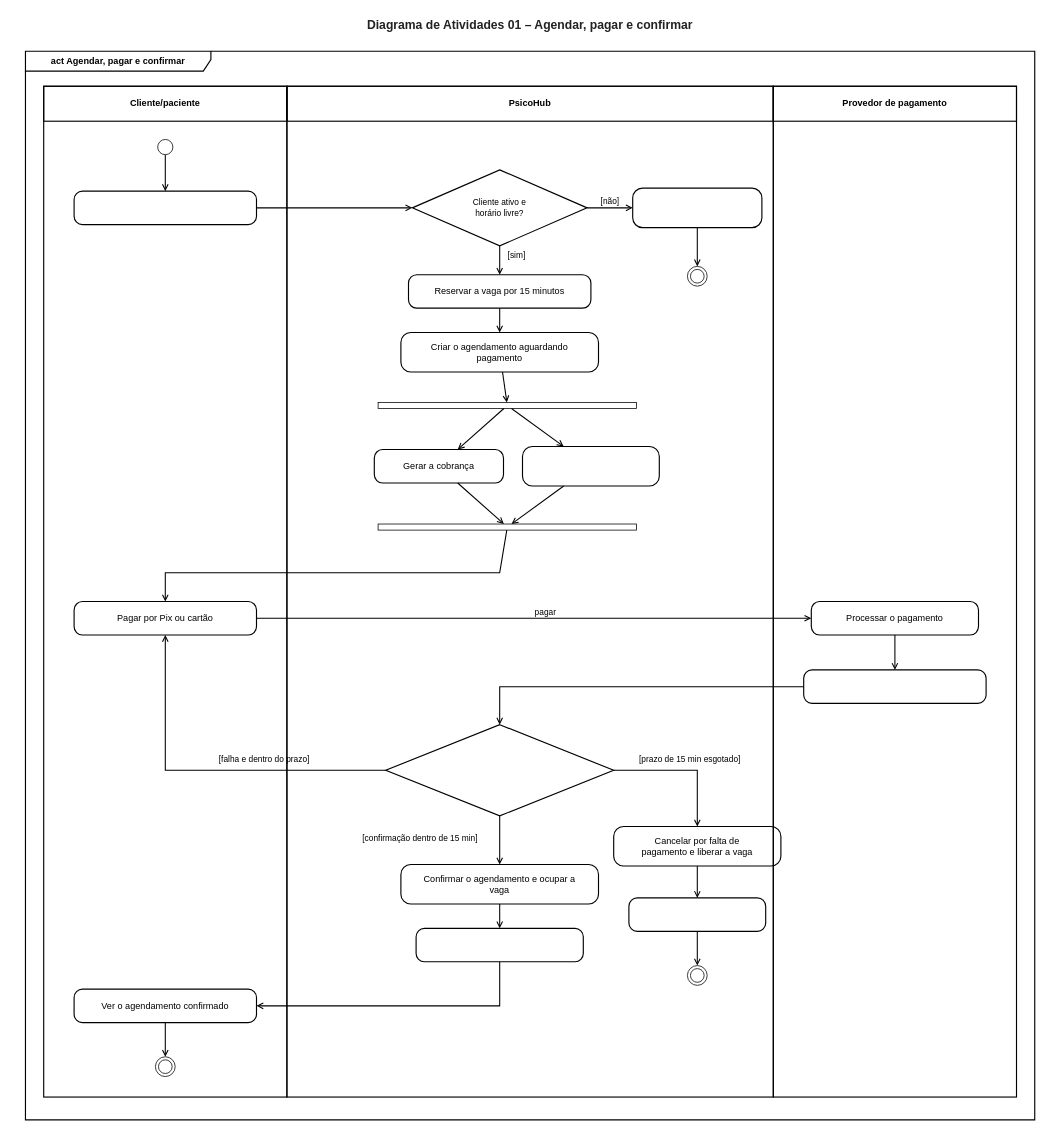
This 1059x1133 diagram has some shape labels left out. Here are the shapes that lost their labels. From the top down, the centre of each, then its label:
At (x=165, y=207): "Escolher área, psicólogo e horário".
At (x=697, y=207): "Recusar e sugerir outros horários".
At (x=591, y=466): "Notificar o agendamento criado".
At (x=894, y=686): "Devolver confirmação ou falha".
At (x=499, y=770): "Resultado do pagamento (janela de 15 min)".
At (x=697, y=914): "Iniciar o reencaixe".
At (x=499, y=944): "Notificar a confirmação".
